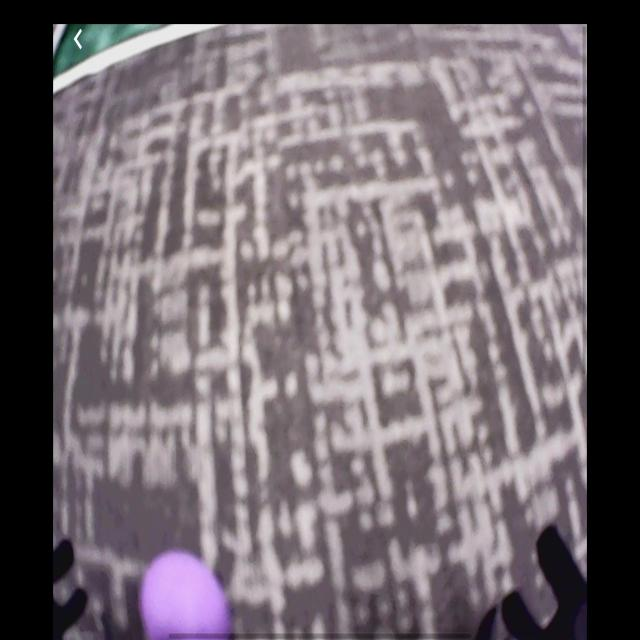ball: (138, 550, 232, 640)
